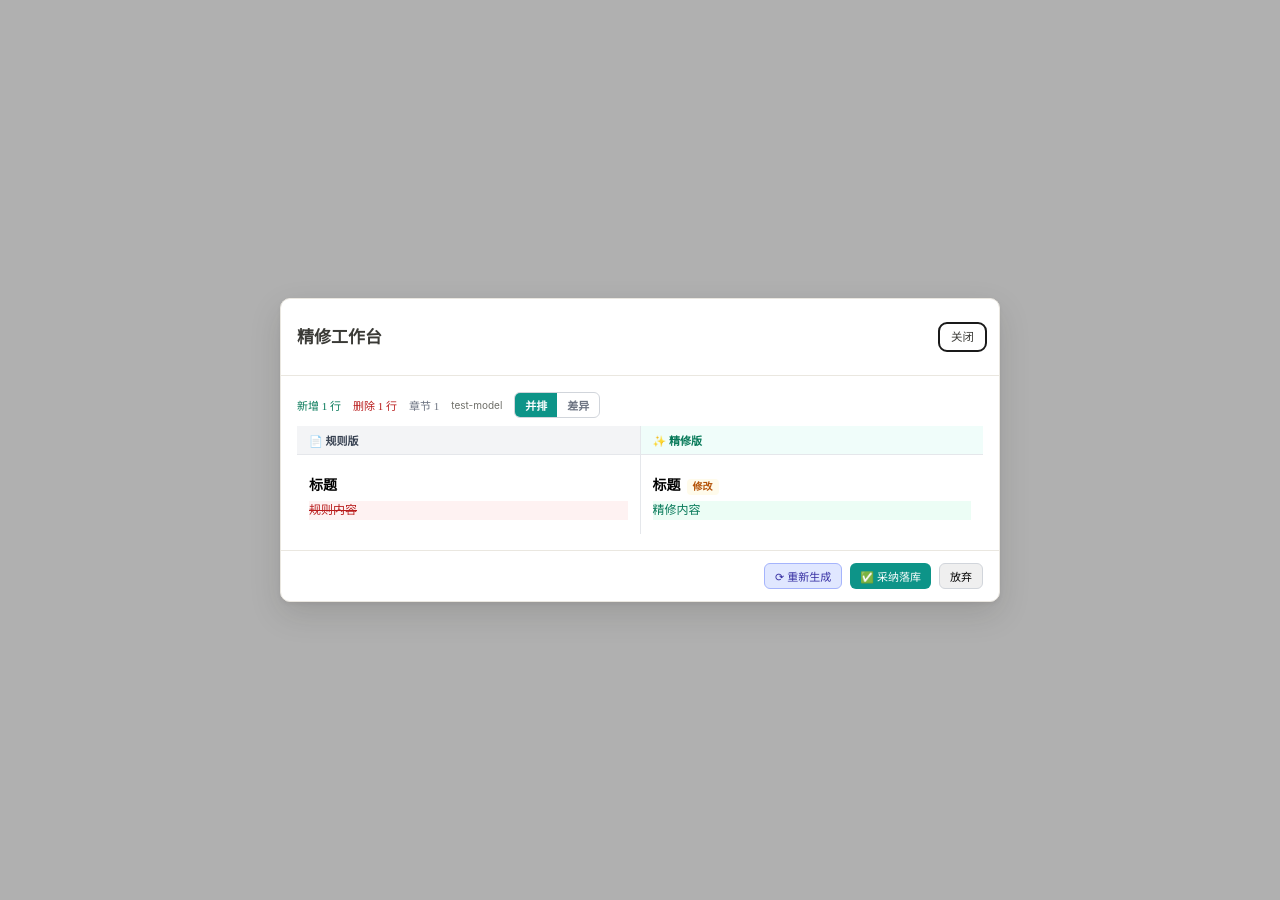
Test: RefineWorkbench 行级染色与差异视图（批 3 / 问题11） › 差异视图切换：单列三态（−删除线红 / +新增绿 / 灰共有），可切回并排
Check: the text "规则内容" is shown, box x1=309 y1=501 x2=628 y2=520
Click the button "差异" at (578, 405), box x1=557 y1=393 x2=599 y2=417
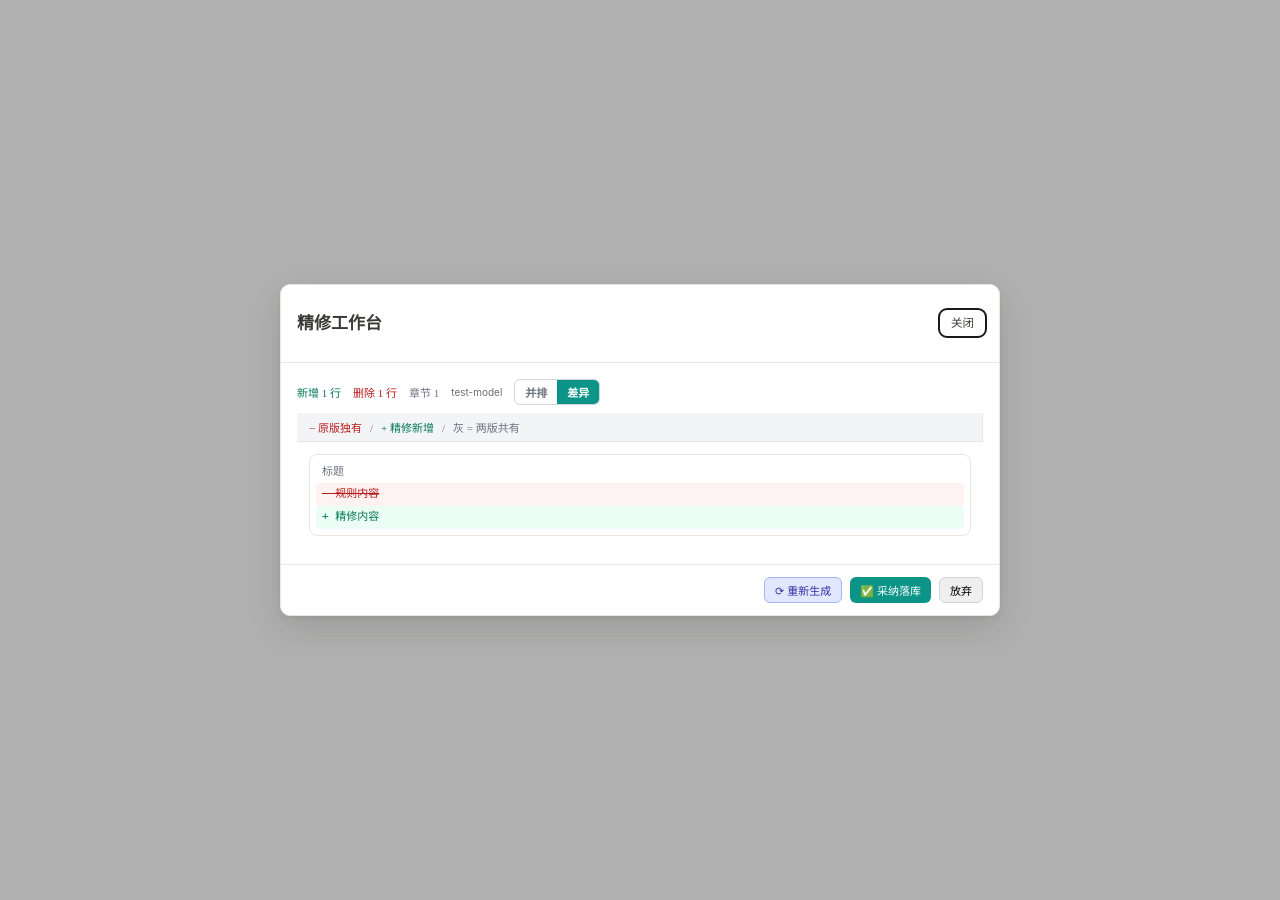
Check: the text "📄 规则版" is gone
Click the button "并排" at (536, 392), box x1=515 y1=380 x2=557 y2=404
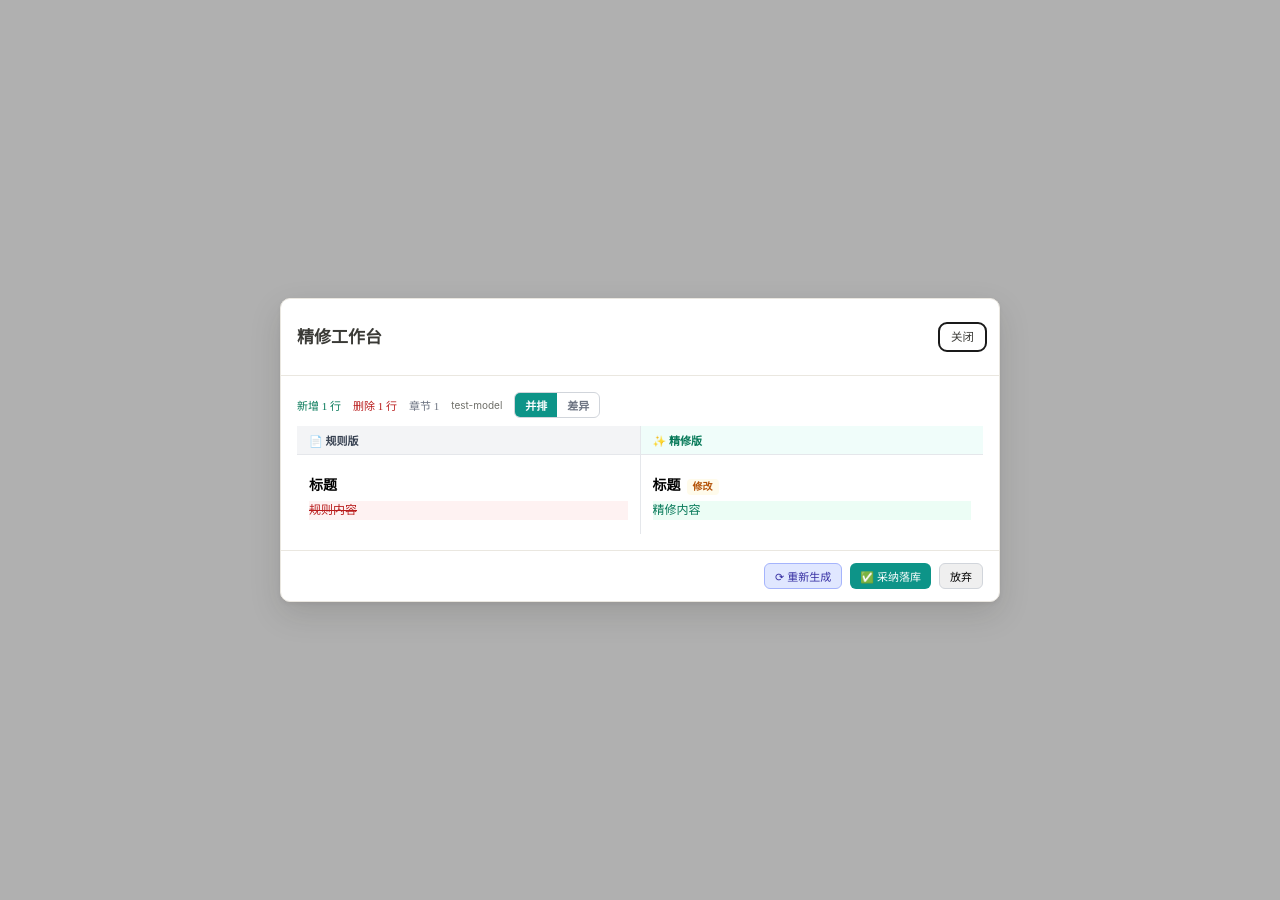
Check: the text "📄 规则版" is shown, box x1=297 y1=426 x2=640 y2=455
Check: the text "− 规则内容" is gone
